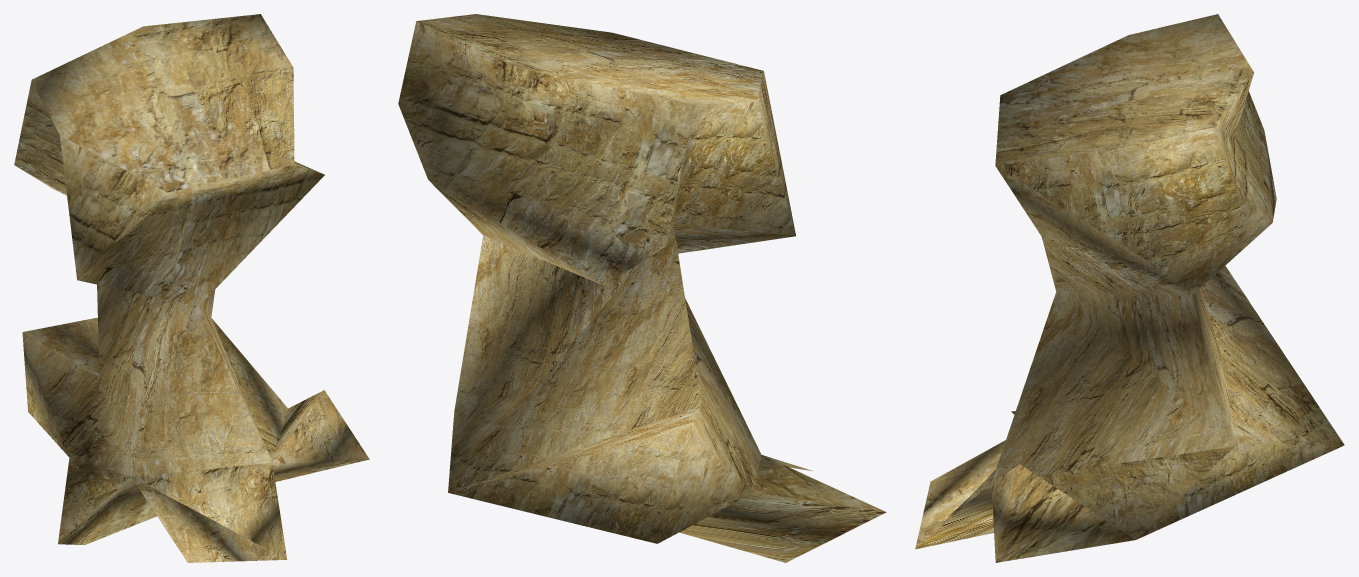
File: Pillar_021.dae
3 renders of one model, left to right at view 1: azimuth 30°, elevation 25°; view 2: azimuth 150°, elevation 25°; view 3: azimuth 270°, elevation 25°, orthographic. The views are drawn at different scales.
Parts seen in each view (by area): view 1: rock0; view 2: rock0; view 3: rock0.
Boxes of the visible parts, bbox=[...] form: rock0: bbox=[14, 14, 369, 562]; rock0: bbox=[398, 14, 886, 562]; rock0: bbox=[915, 14, 1344, 562].
Size of the model in its own units: 2.26 by 2.43 by 3.03.
